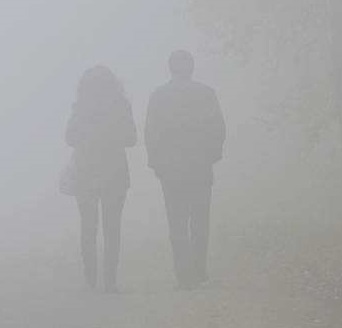person: (145, 49, 230, 286), (64, 64, 140, 293)
